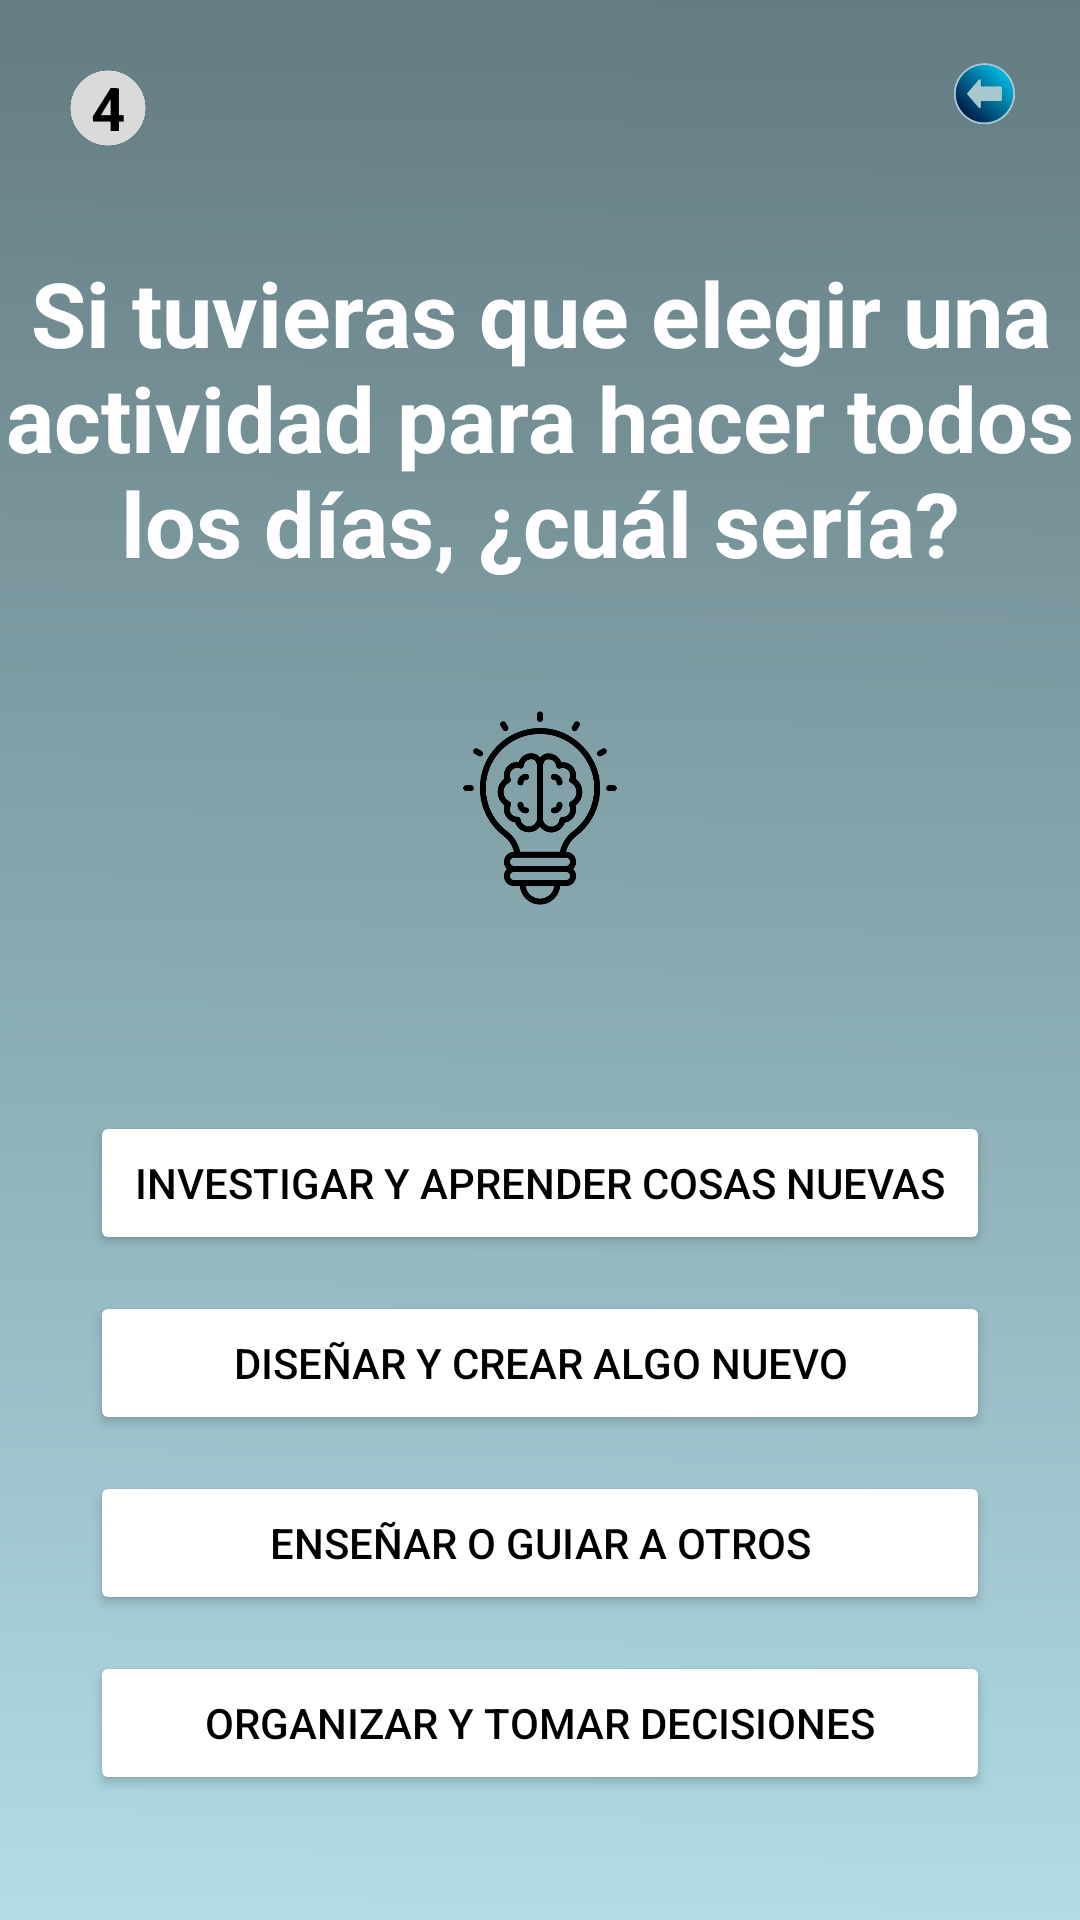

Screen size 1080w x 1920h. Icon name, then its center in pixels as (x,y):
idea: (540,808)
retroceso: (984,93)
